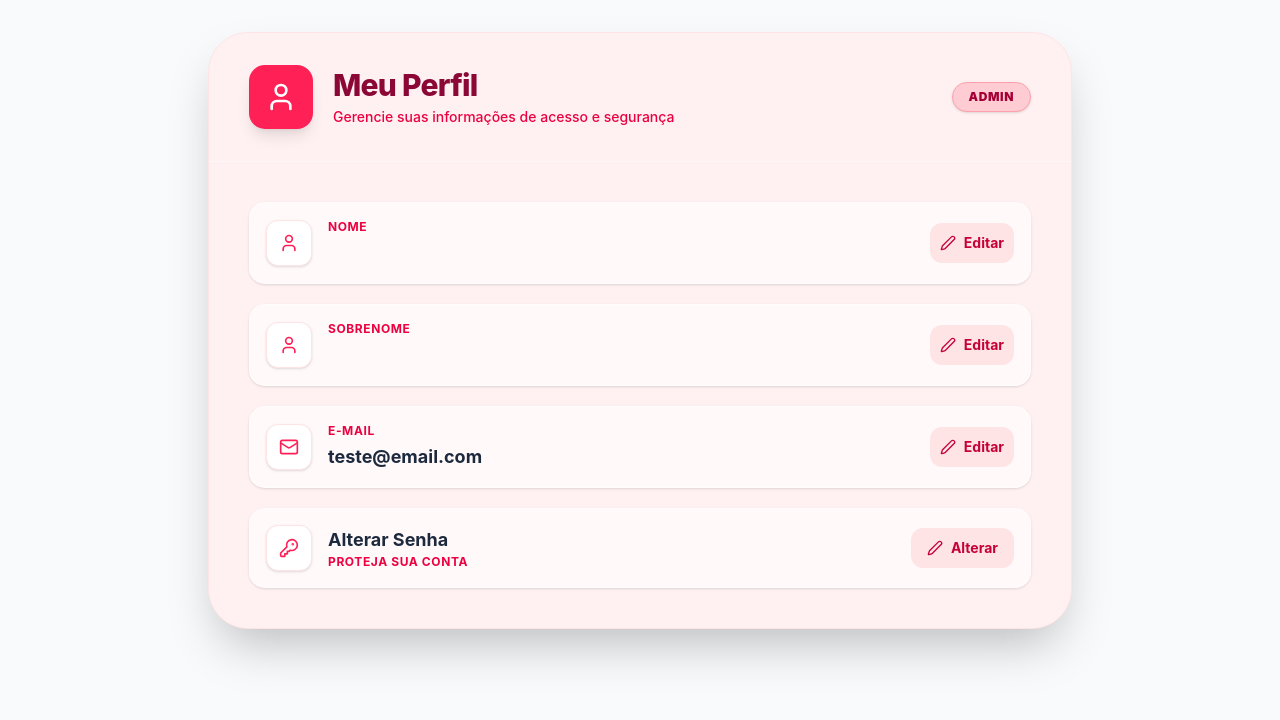
Test: Página de Perfil › Deve exibir mensagem de erro da API caso o PATCH falhe (ex: e-mail duplicado)
Expected: the field showing "teste@email.com" below "E-mail" is shown, [328,443,914,471]
// Clica em Editar E-mail
Click the button "Editar" in the row of "E-mail": x=972, y=447 [930,427,1014,467]
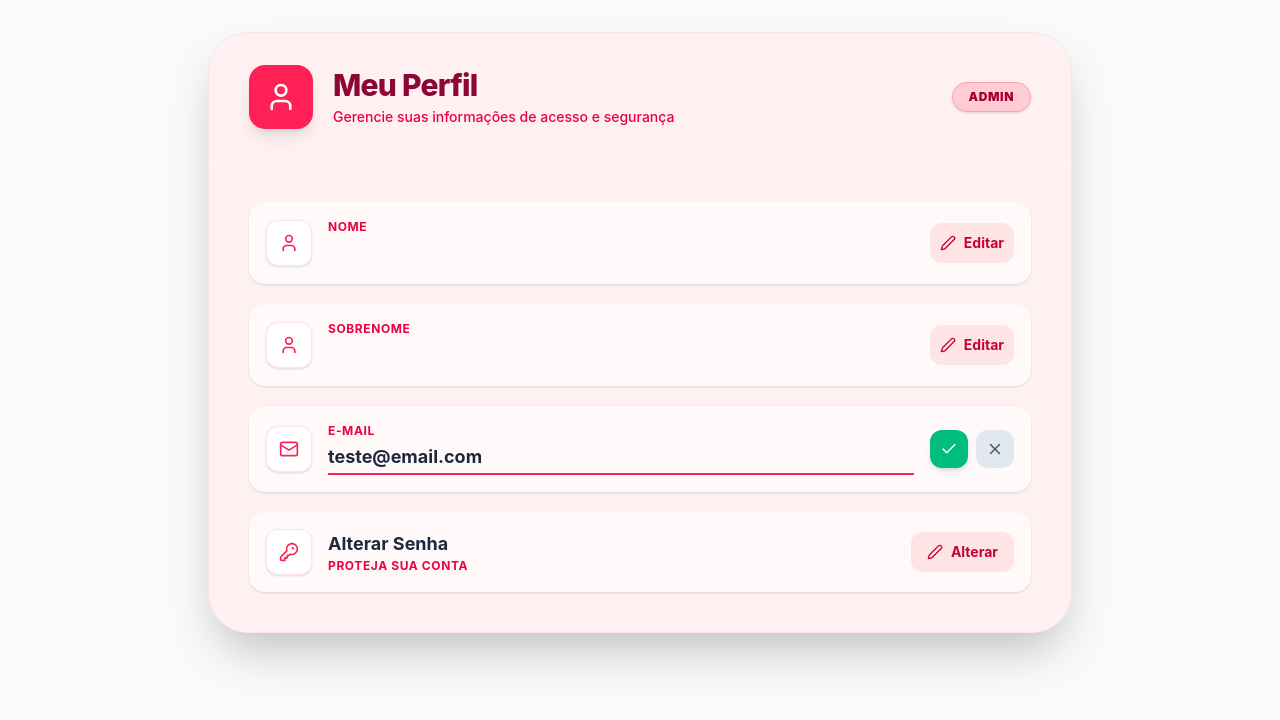
// Altera e Salva
Replace the text in the field showing "teste@email.com" below "E-mail" with "duplicado@email.com": x=621, y=459 [328,443,914,475]
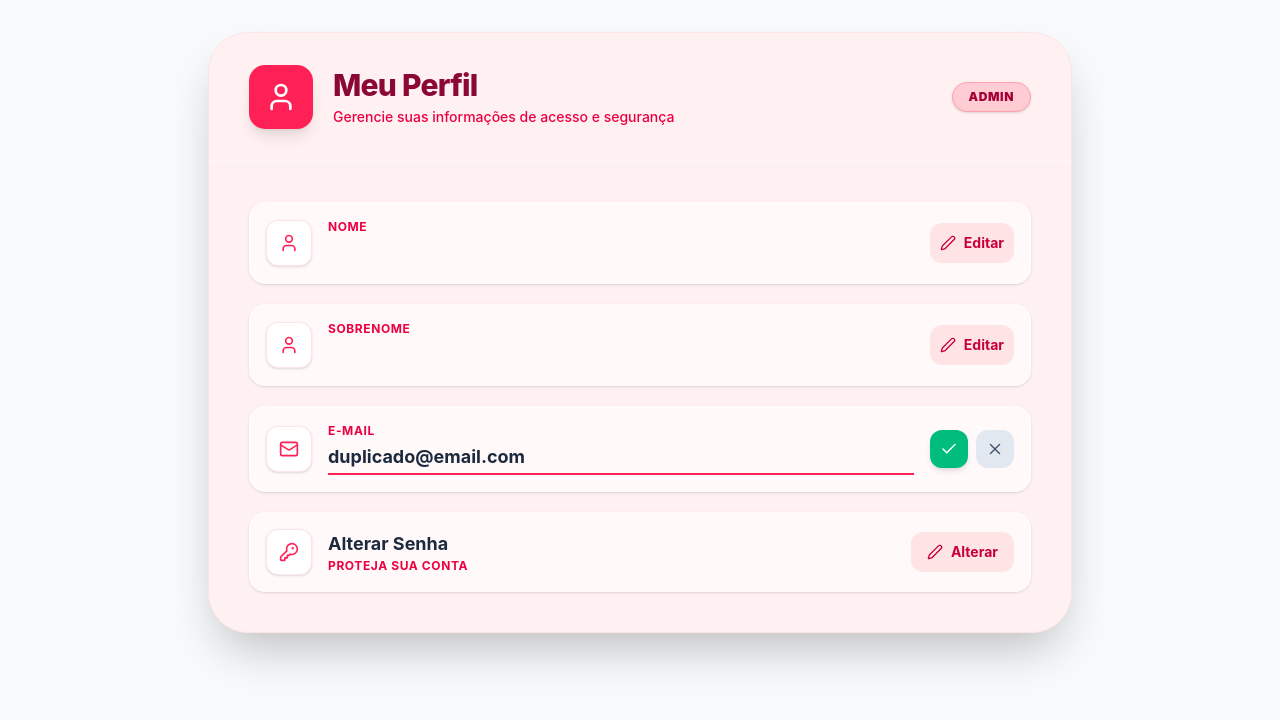
Click the 3rd button: x=949, y=449 [930,430,968,468]
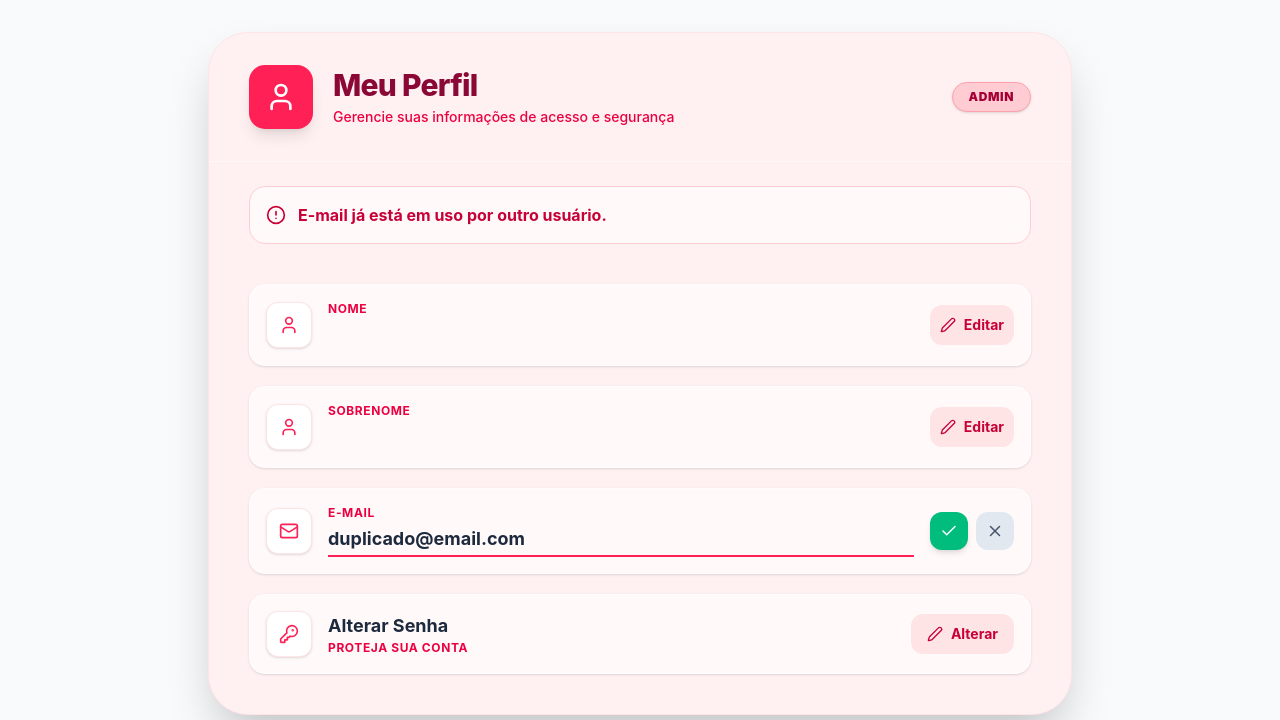
Now the text "E-mail já está em uso por outro usuário." is shown, box [249,186,1031,244]
